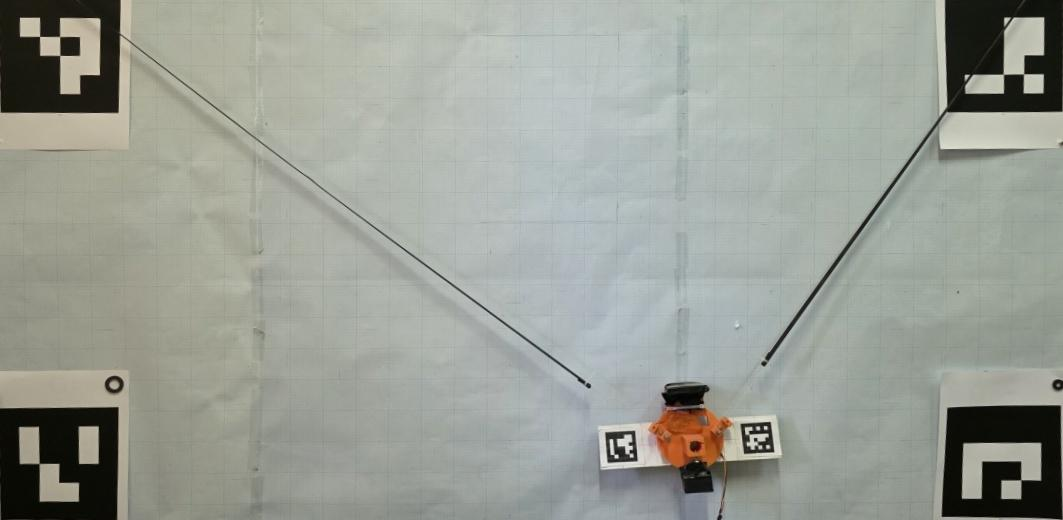robot: (647, 382, 732, 495)
